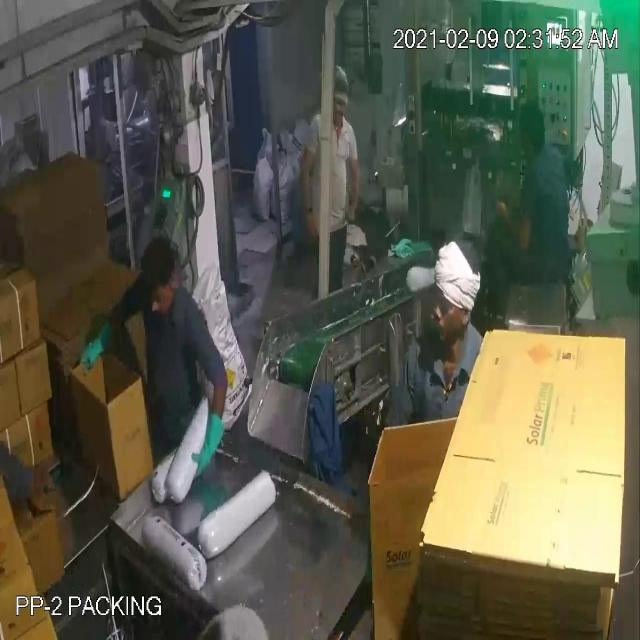Gloves: (28, 73, 512, 484)
